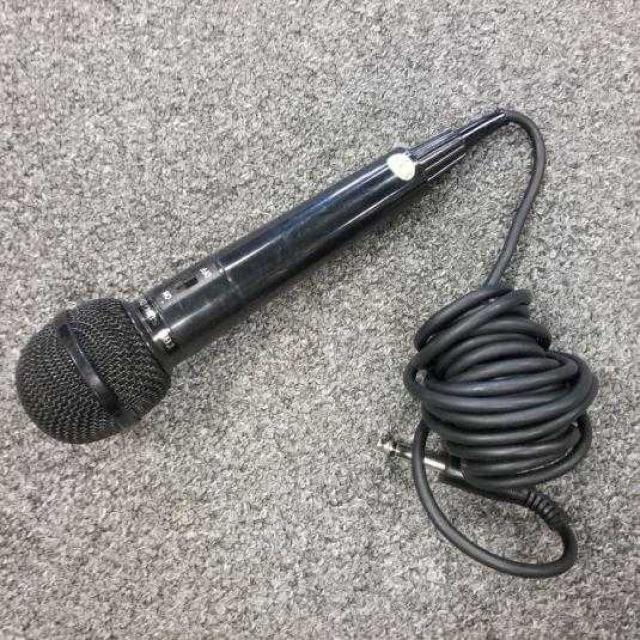microphone: (15, 108, 510, 436)
